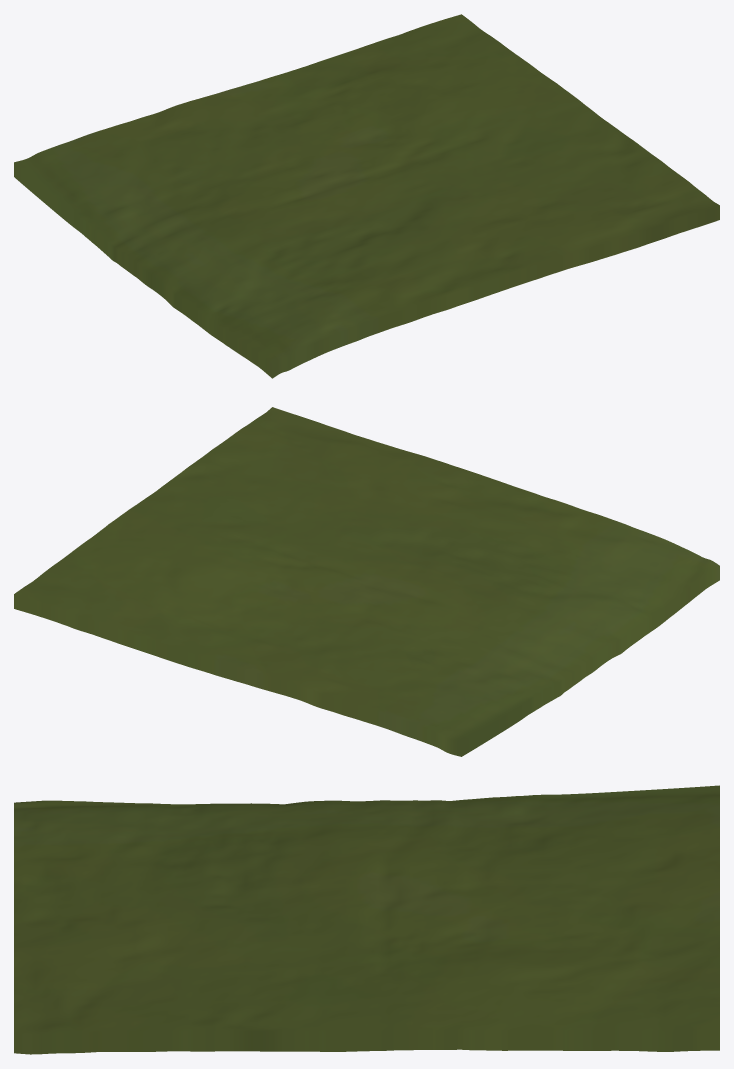
Rendered from terrain_0_0.glb.
3 views of the same model, one above another, from view 1: azimuth 30°, elevation 25°; view 2: azimuth 150°, elevation 25°; view 3: azimuth 270°, elevation 25° (orthographic). The views are drawn at different scales.
Visible parts, largest first — view 1: terrain_0_0; view 2: terrain_0_0; view 3: terrain_0_0.
Boxes of the visible parts, left/top/right/bottom form: terrain_0_0: left=14, top=14, right=719, bottom=378; terrain_0_0: left=14, top=407, right=719, bottom=756; terrain_0_0: left=14, top=785, right=719, bottom=1054.
Size of the model in its own units: 256 by 37.22 by 256.
